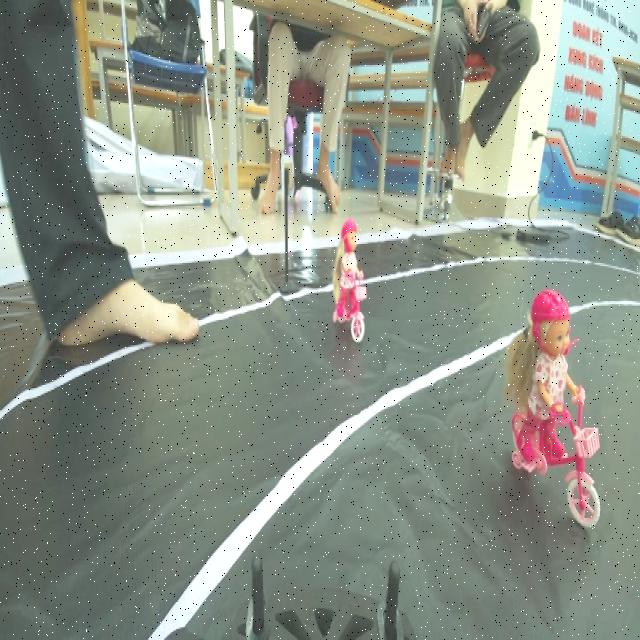pedestrian: (500, 267, 610, 538), (323, 207, 369, 340)
